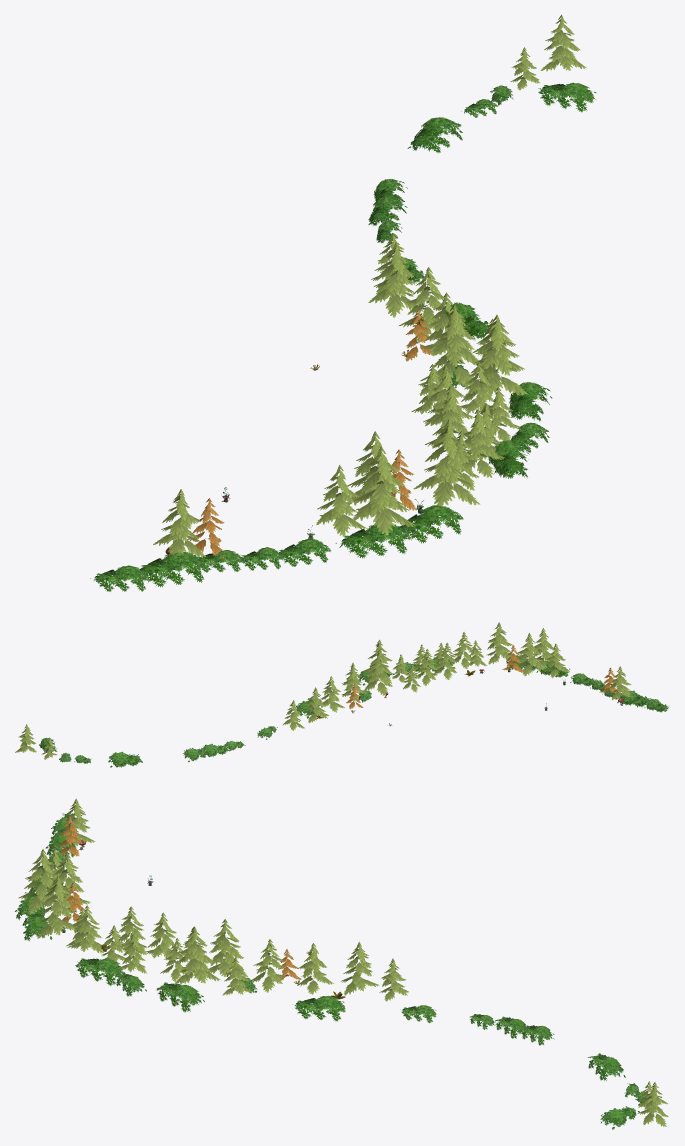
File: zhibei16_1.fbx
3 renders of one model, top to bottom at view 1: azimuth 30°, elevation 25°; view 2: azimuth 150°, elevation 25°; view 3: azimuth 270°, elevation 25°, orthographic. The views are drawn at different scales.
Visible parts, largest first — view 1: zhibei16_1; view 2: zhibei16_1; view 3: zhibei16_1.
Boxes of the visible parts, x1,y1,x2,y2 form: zhibei16_1: (90, 14, 596, 591); zhibei16_1: (15, 622, 669, 767); zhibei16_1: (15, 798, 668, 1129).
Bounding box in the file's own units: 8542 × 909 × 7523.
